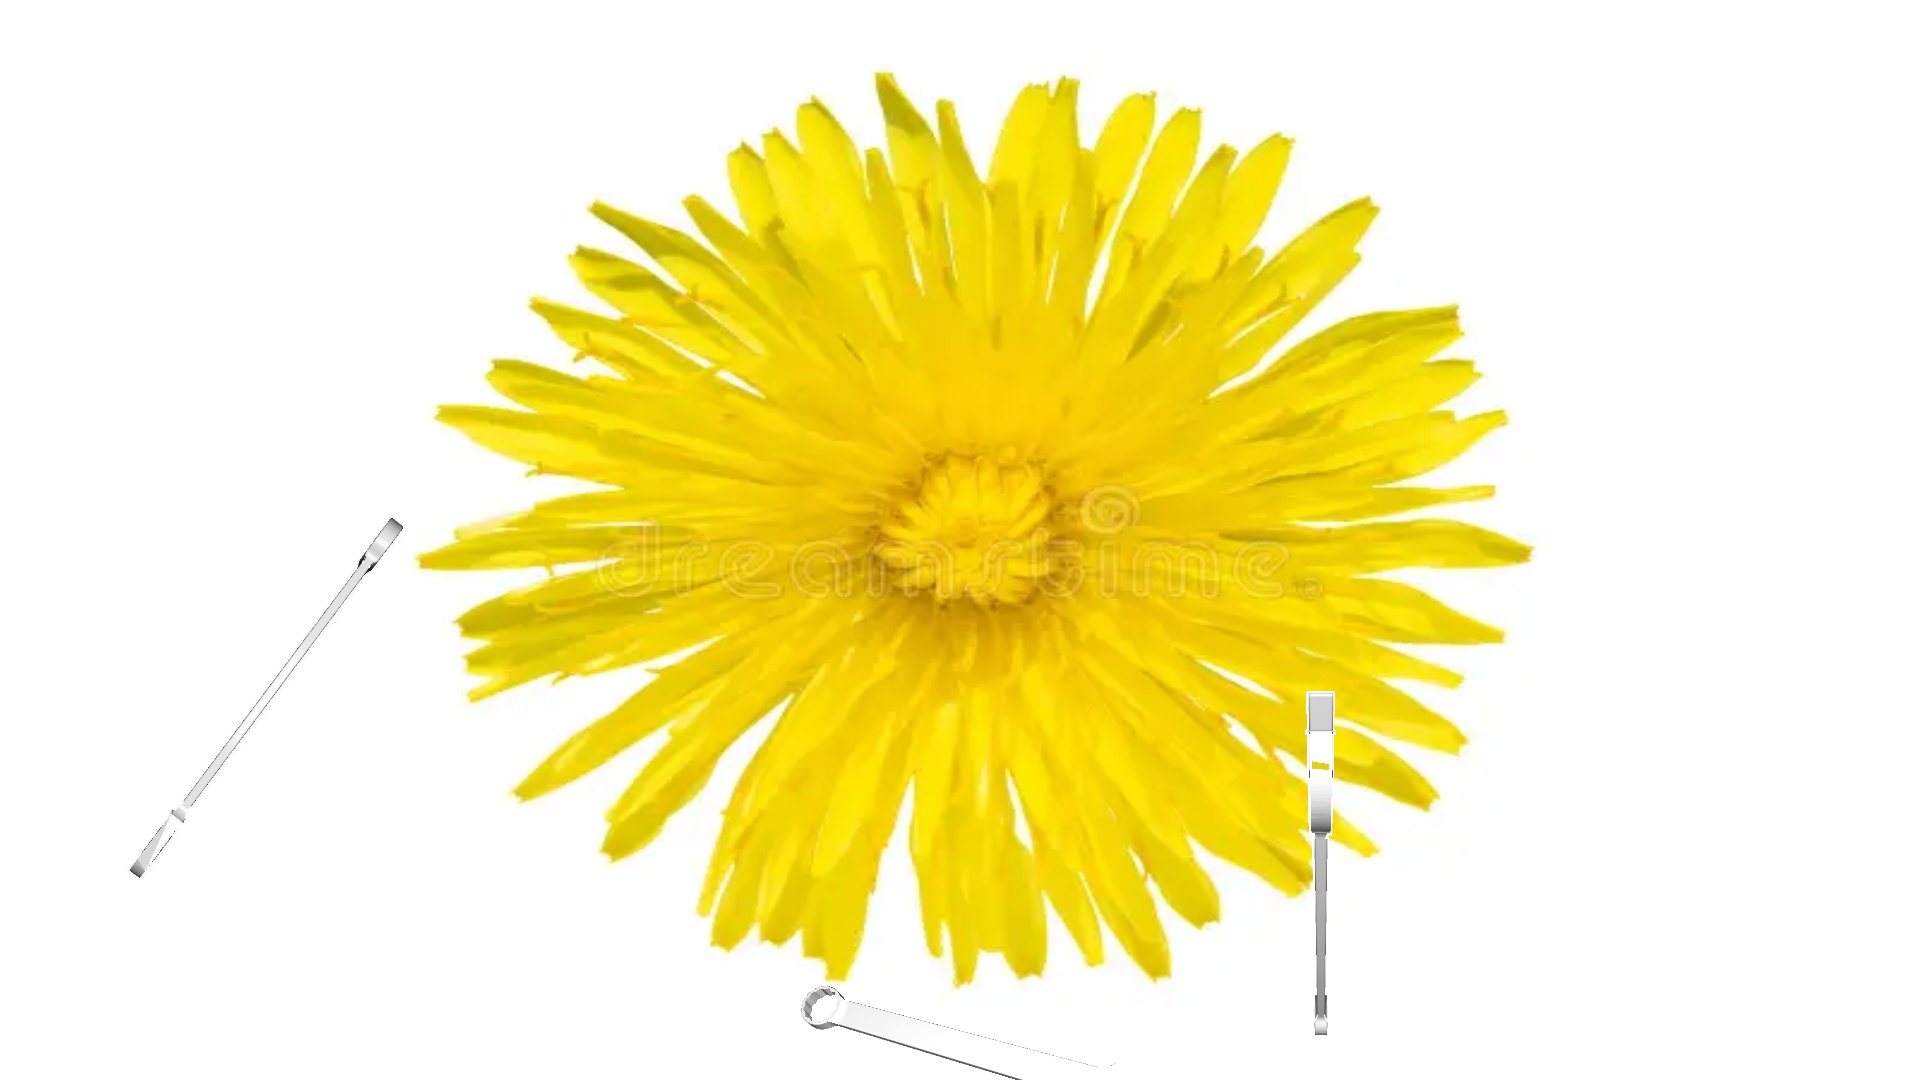Mixed Key: (127, 517, 405, 880), (798, 984, 1185, 1079), (1305, 691, 1335, 1036)
